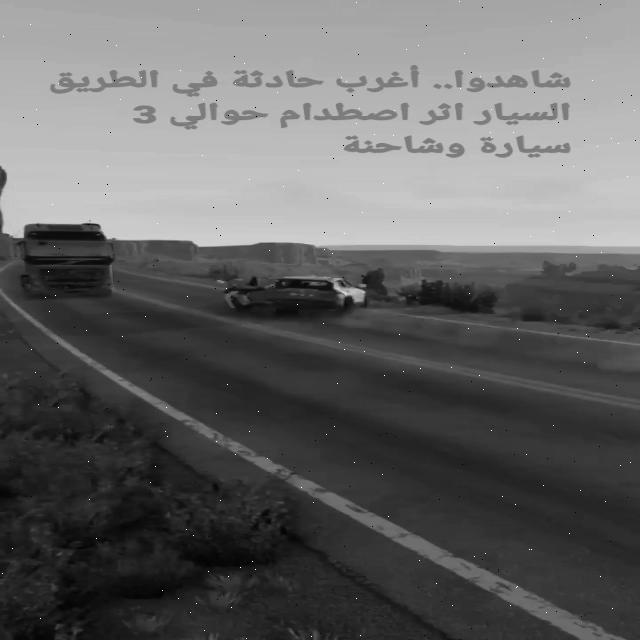accident: (216, 263, 409, 325)
